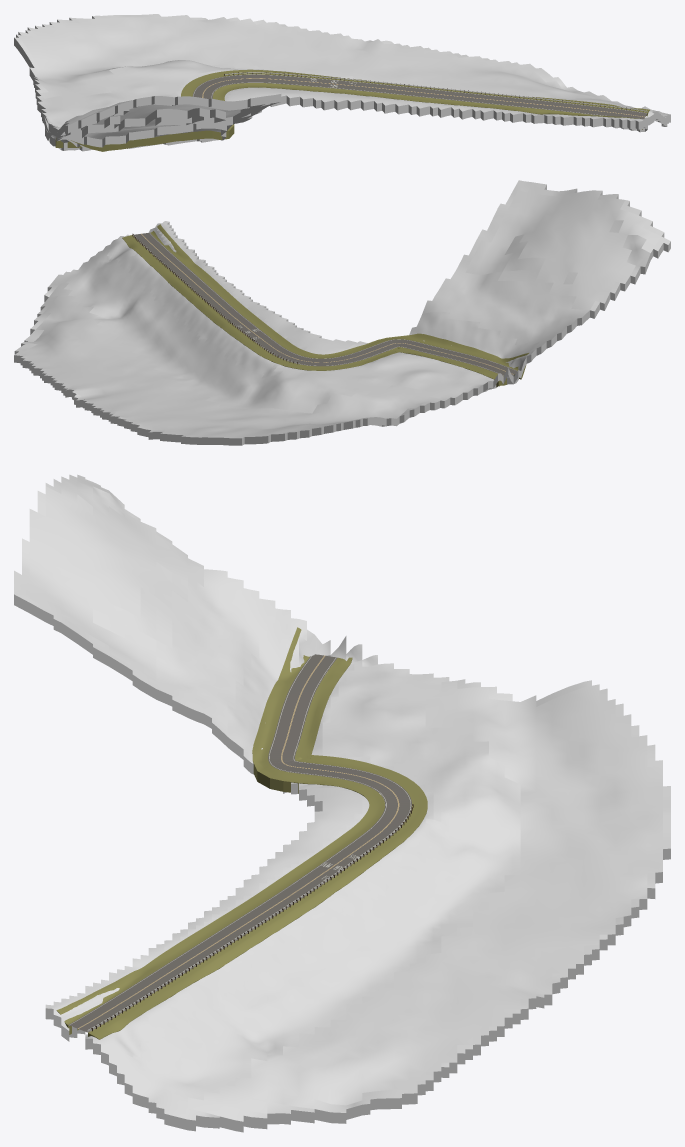
The model's file is conz_85.glb.
The picture shows the model from 3 angles, top to bottom: view 1: azimuth 30°, elevation 25°; view 2: azimuth 150°, elevation 25°; view 3: azimuth 270°, elevation 25°; orthographic projection. The views are drawn at different scales.
Parts seen in each view (by area): view 1: terrain85, road85, verge85R, verge85L, beam85_90100, paint_white85, paint_yellow85; view 2: terrain85, road85, verge85L, verge85R, paint_white85, paint_yellow85; view 3: terrain85, road85, verge85L, verge85R, paint_white85.
Boxes of the visible parts, bbox=[...] form: terrain85: bbox=[14, 14, 670, 151]; road85: bbox=[55, 74, 647, 139]; verge85R: bbox=[55, 83, 642, 151]; verge85L: bbox=[181, 69, 649, 116]; beam85_90100: bbox=[225, 72, 647, 111]; paint_white85: bbox=[193, 74, 646, 115]; paint_yellow85: bbox=[202, 78, 644, 117]; terrain85: bbox=[14, 180, 670, 445]; road85: bbox=[133, 232, 517, 375]; verge85L: bbox=[122, 235, 506, 387]; verge85R: bbox=[150, 224, 528, 379]; paint_white85: bbox=[133, 233, 510, 375]; paint_yellow85: bbox=[141, 233, 513, 374]; terrain85: bbox=[14, 474, 670, 1132]; road85: bbox=[68, 654, 411, 1032]; verge85L: bbox=[88, 657, 427, 1039]; verge85R: bbox=[56, 627, 384, 1034]; paint_white85: bbox=[69, 656, 410, 1032].
Size of the model in its own units: 248 by 79.54 by 166.
